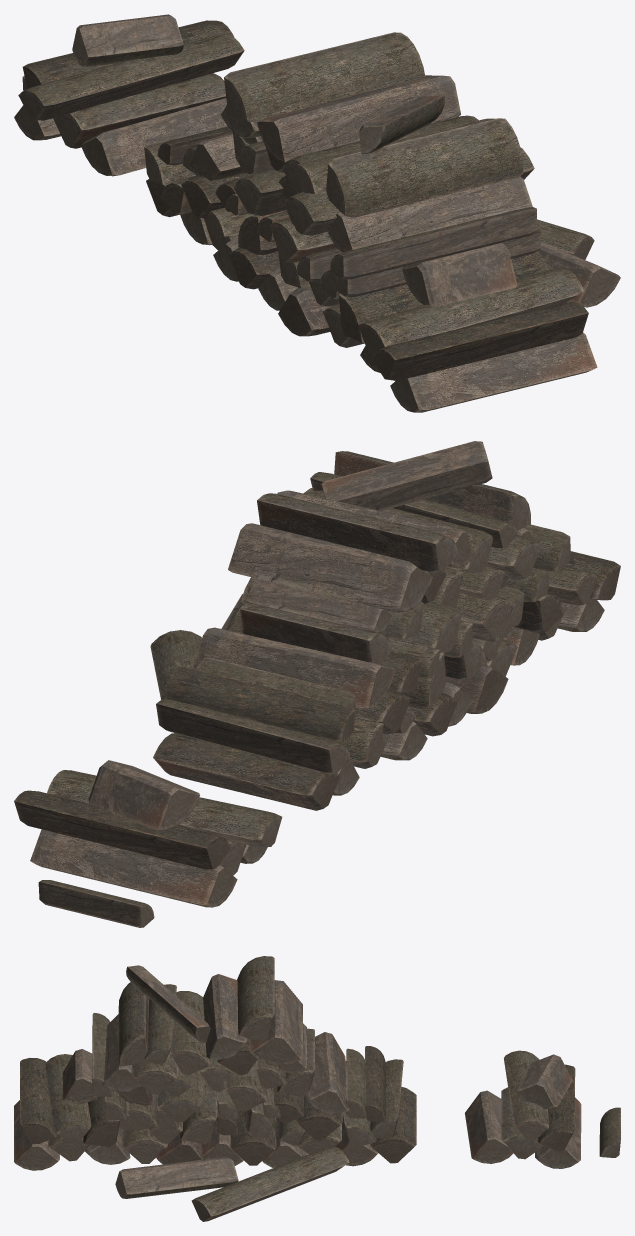
Rendered from prop_logpile_01.glb.
3 views of the same model, one above another, from view 1: azimuth 30°, elevation 25°; view 2: azimuth 150°, elevation 25°; view 3: azimuth 270°, elevation 25° (orthographic). The views are drawn at different scales.
Parts seen in each view (by area): view 1: prop_logpile_01; view 2: prop_logpile_01; view 3: prop_logpile_01.
Part boxes in pixels (box(x1,y1,x2,y2)): prop_logpile_01: box(14, 14, 620, 412); prop_logpile_01: box(14, 441, 620, 927); prop_logpile_01: box(14, 956, 620, 1221).
Size of the model in its own units: 1.2 by 0.8053 by 2.61.
Materials: 1 (1 with a texture image).
